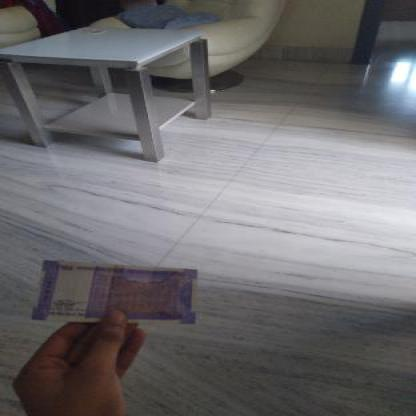New100Back: (36, 257, 200, 327)
